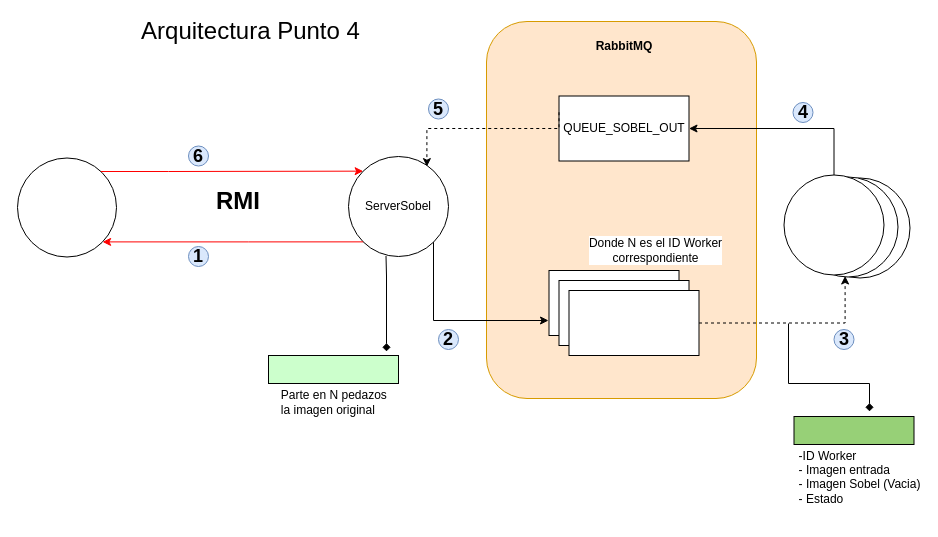
This 938x537 diagram has some shape labels left out. Each missing label, with the box of its shape:
ClientSobel: (16, 157, 116, 257)
QUEUE_W(N): (568, 290, 699, 356)
Request: (793, 416, 914, 444)
SobelDistribuido(): (268, 354, 398, 384)
Worker Sobel: (783, 174, 884, 275)
